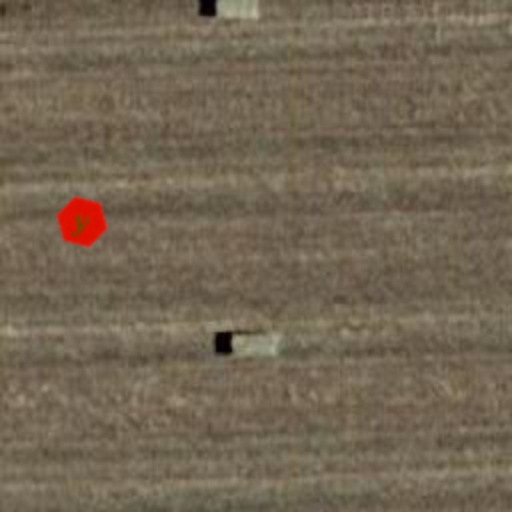hexagon: (48, 188, 116, 256)
